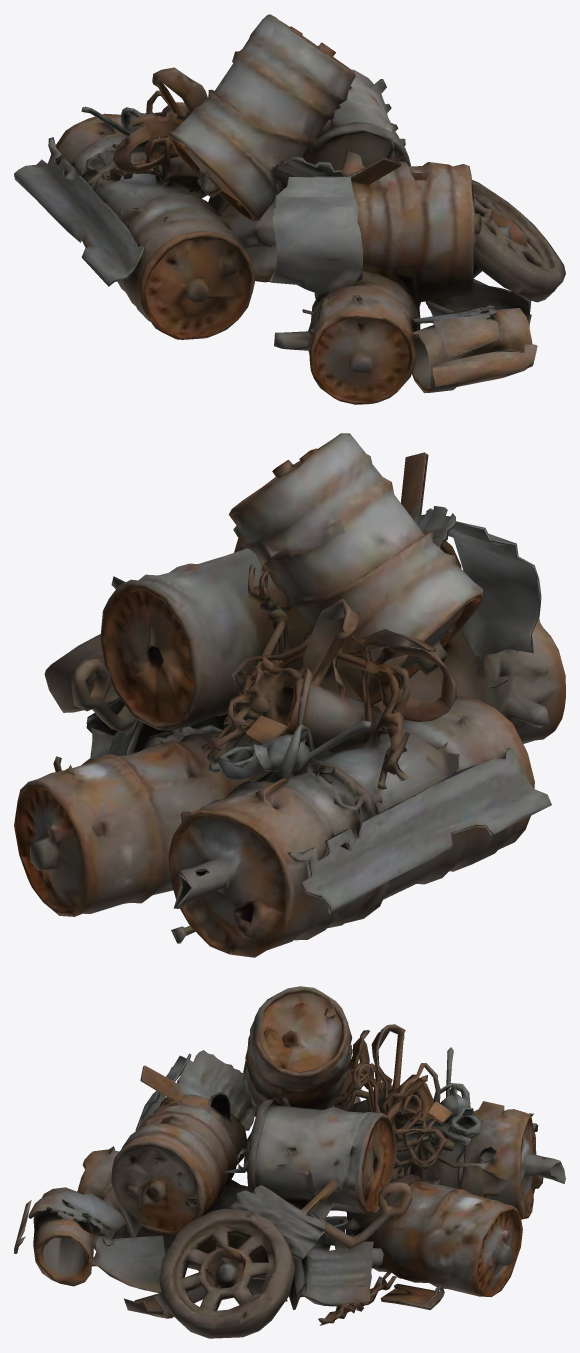
File: junk_heap_lod1.12fcd87d3c.glb
The picture shows the model from 3 angles, top to bottom: view 1: azimuth 30°, elevation 25°; view 2: azimuth 150°, elevation 25°; view 3: azimuth 270°, elevation 25°; orthographic projection. The views are drawn at different scales.
Parts seen in each view (by area): view 1: junk_heap; view 2: junk_heap; view 3: junk_heap.
Part boxes in pixels (left/top/right/bottom): junk_heap: left=14, top=14, right=565, bottom=404; junk_heap: left=14, top=433, right=565, bottom=957; junk_heap: left=14, top=986, right=565, bottom=1338.
Size of the model in its own units: 2.28 by 1.6 by 3.
1 material, 1 textured.
